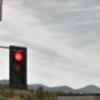traffic lights: (6, 45, 31, 88)
